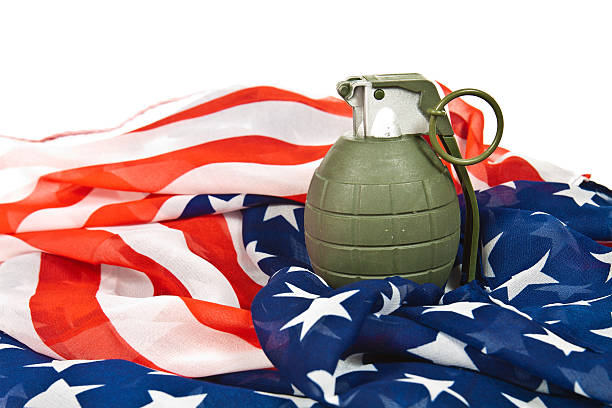e1: (302, 70, 503, 295)
